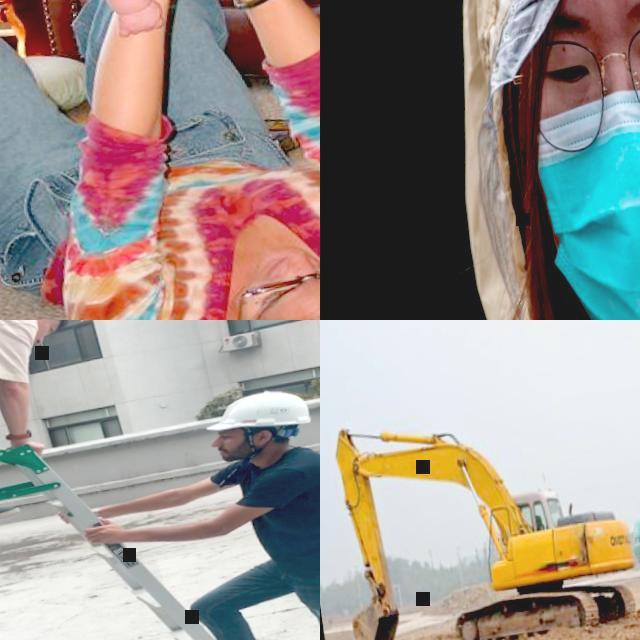helmet: (200, 387, 312, 438)
machinery: (320, 367, 639, 640)
mask: (523, 75, 640, 320)
no_mask: (245, 238, 320, 274), (216, 438, 262, 464), (30, 331, 48, 346)
no_vest: (151, 140, 320, 286), (233, 439, 320, 573)
person: (0, 0, 320, 320), (356, 0, 640, 320), (44, 377, 320, 640), (0, 320, 96, 549), (534, 516, 544, 533)
